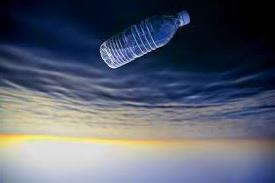Plastic: (85, 11, 211, 77)
